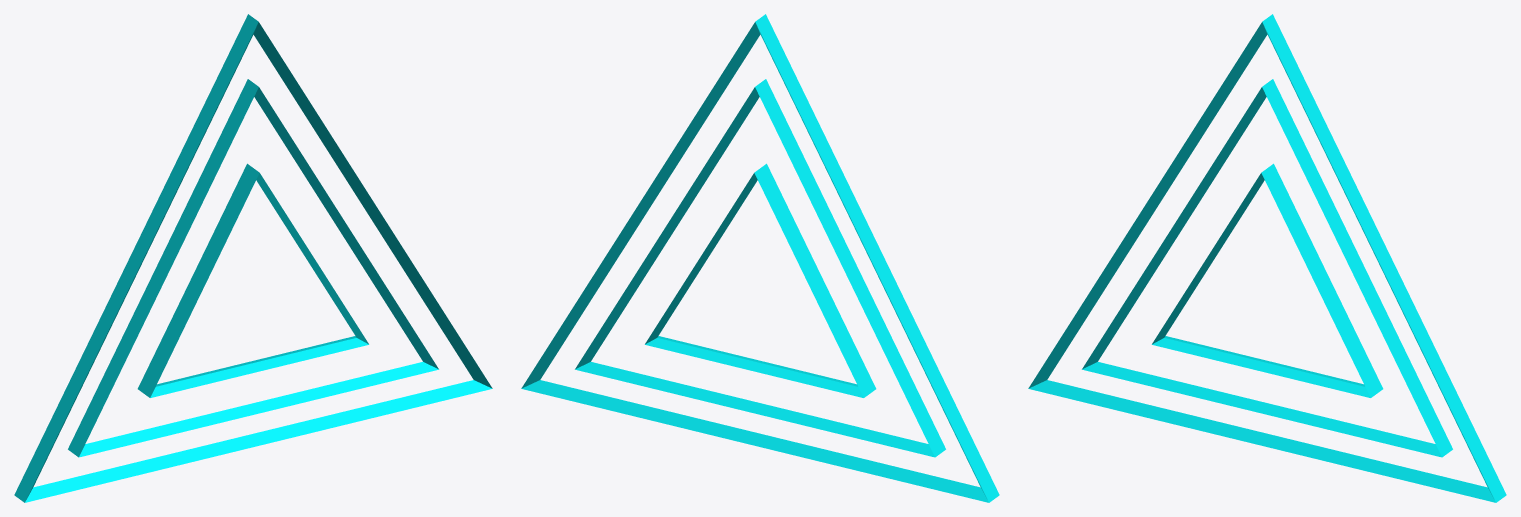
File: LIH0210006.fbx
3 views of the same model, side by side, from view 1: azimuth 30°, elevation 25°; view 2: azimuth 150°, elevation 25°; view 3: azimuth 330°, elevation 25° (orthographic).
Parts seen in each view (by area): view 1: smLIH0210006; view 2: smLIH0210006; view 3: smLIH0210006.
Boxes of the visible parts, x1,y1,x2,y2 form: smLIH0210006: (14, 14, 492, 502); smLIH0210006: (521, 14, 999, 502); smLIH0210006: (1028, 14, 1506, 502).
Size of the model in its own units: 309 by 268 by 14.38.
